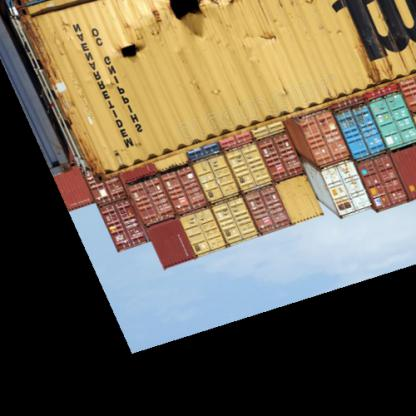Damage: (112, 35, 145, 74), (166, 2, 201, 36)
